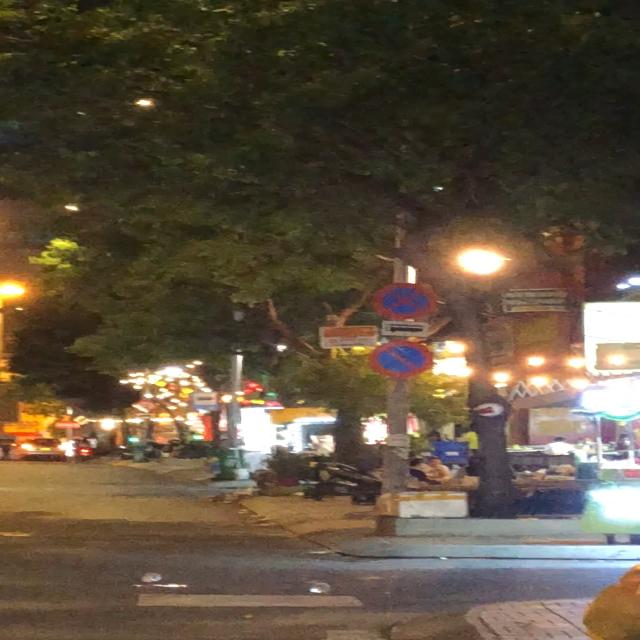Bien bao cam do xe: (362, 339, 436, 379)
Bien bao cam dung xe va do xe: (370, 278, 444, 322)
